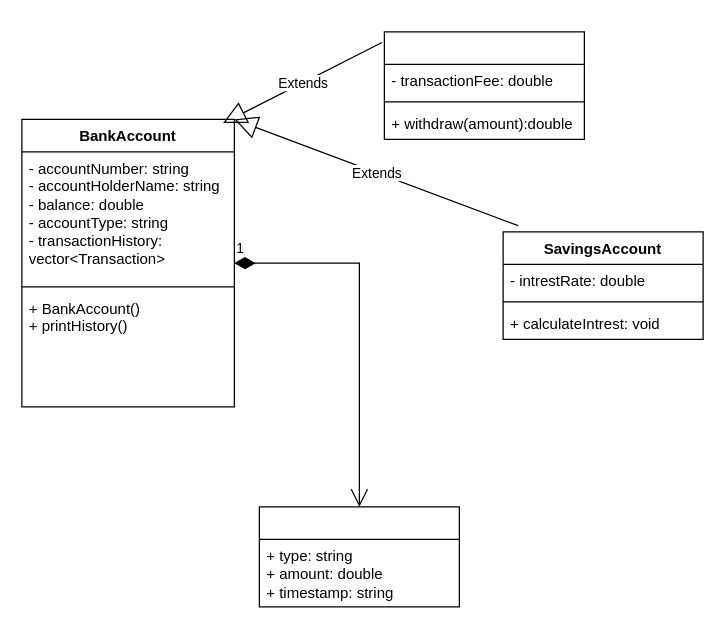
This 725x633 diagram has some shape labels left out. The box of each missing label's shape, as (x1, y1, x2, y2) in pixels:
CheckingAccount: (383, 31, 584, 139)
Transaction: (258, 506, 459, 607)
